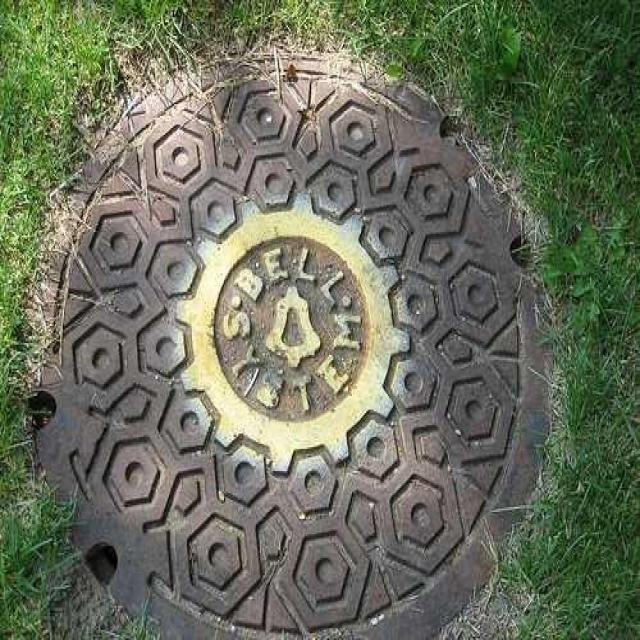manhole: (28, 51, 549, 640)
